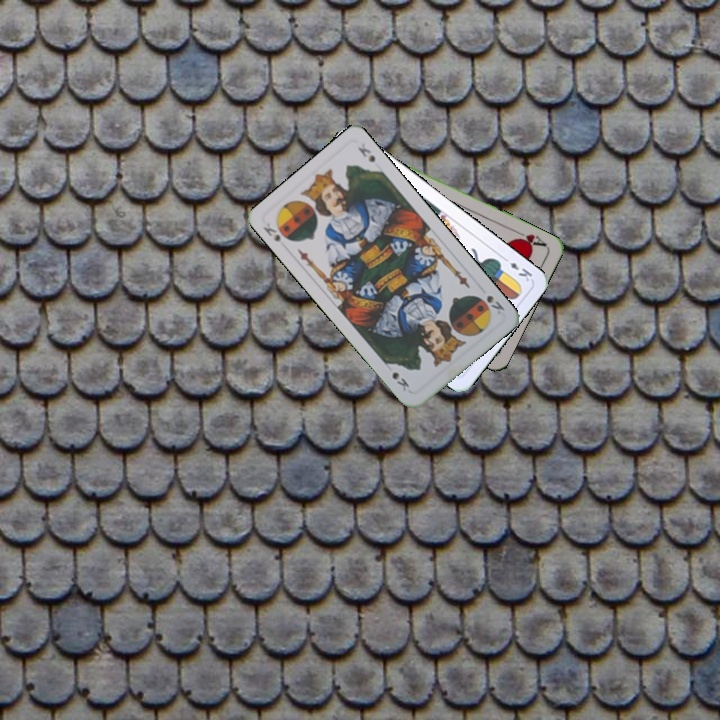EK: (498, 253, 535, 284)
HA: (510, 226, 549, 250)
SK: (259, 218, 294, 245), (482, 291, 507, 317)
